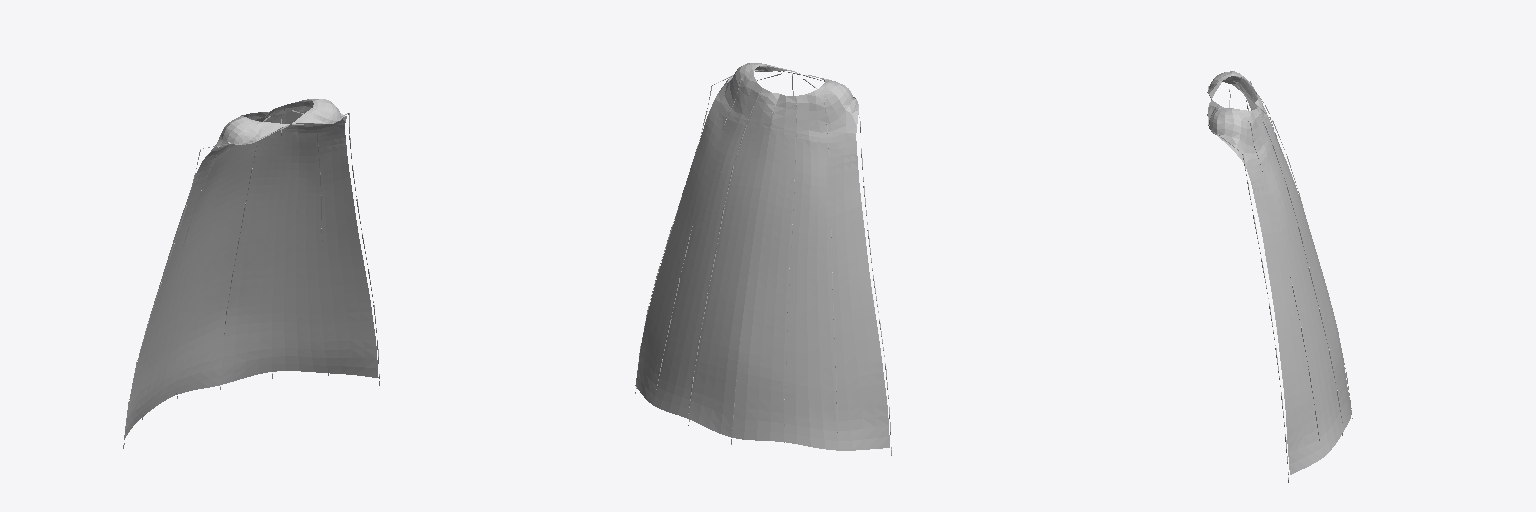
File: Cape2.obj
3 renders of one model, left to right at view 1: azimuth 30°, elevation 25°; view 2: azimuth 150°, elevation 25°; view 3: azimuth 270°, elevation 25°, orthographic.
Visible parts, largest first — view 1: Cape; view 2: Cape; view 3: Cape.
Part boxes in pixels (left/top/right/bottom): Cape: left=123, top=99, right=379, bottom=448; Cape: left=635, top=63, right=891, bottom=455; Cape: left=1207, top=71, right=1352, bottom=482.
Bounding box in the file's own units: 2.95 × 3.64 × 1.45.